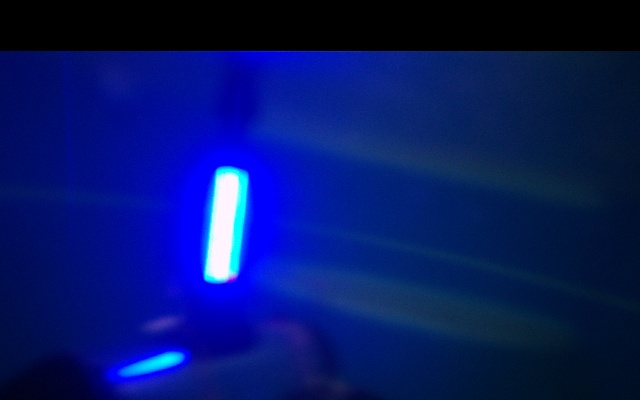blue: (200, 168, 248, 285)
